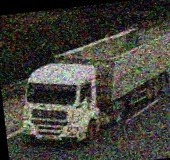truck: (7, 12, 170, 160)
